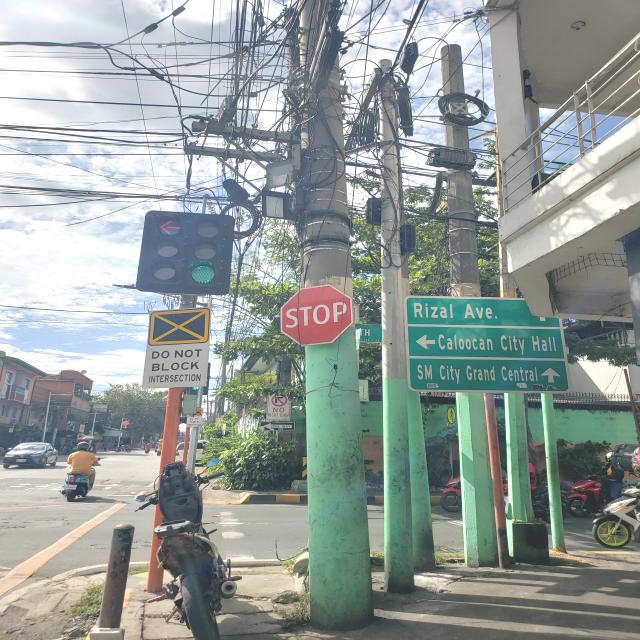stop-sign: (280, 284, 354, 346)
